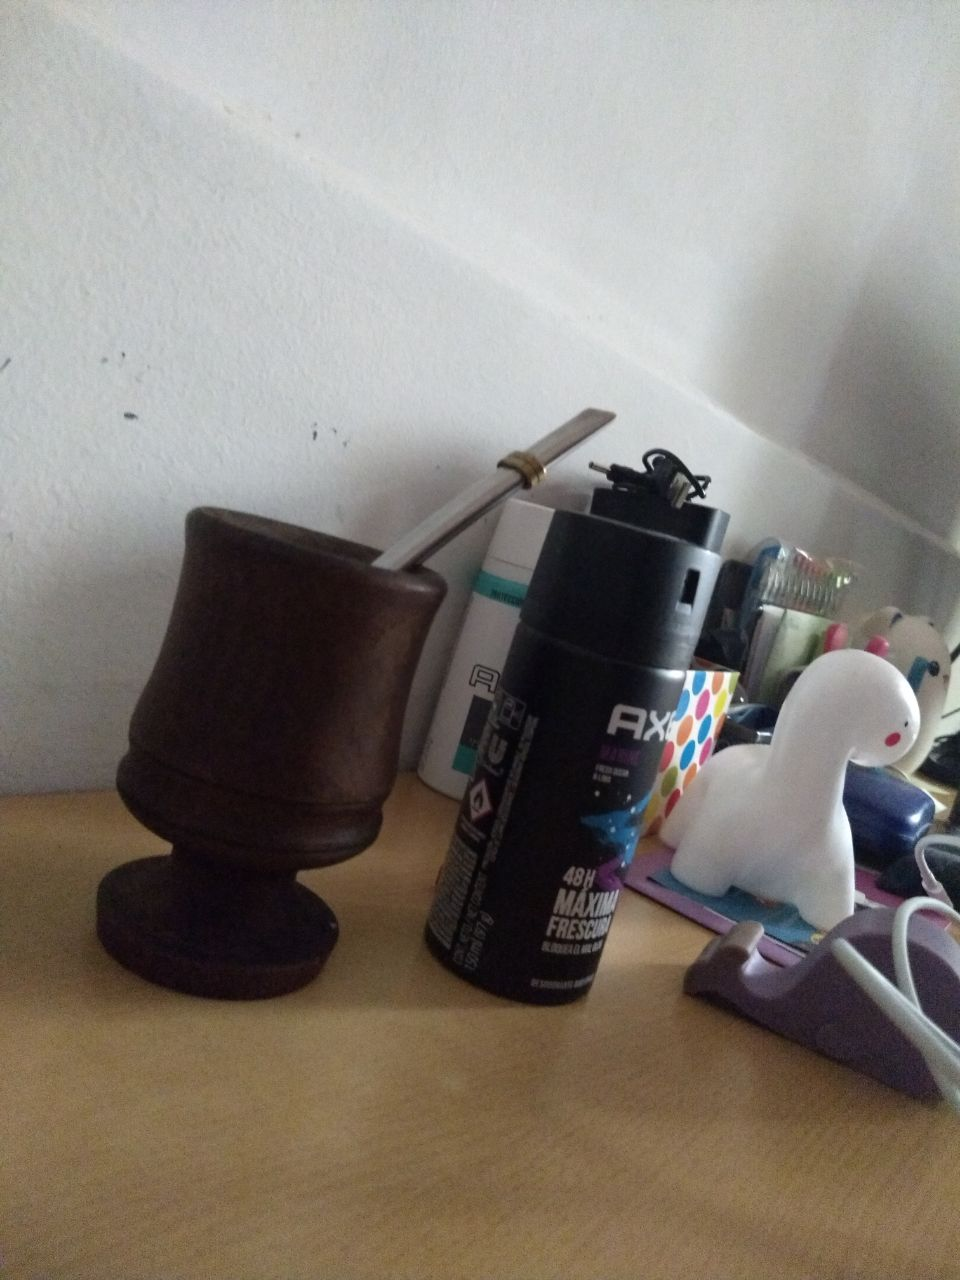madera: (92, 398, 621, 999)
mate: (94, 400, 623, 1001)
